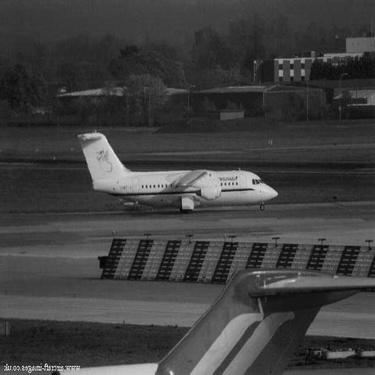airplane: (3, 260, 371, 372), (73, 129, 283, 215)
